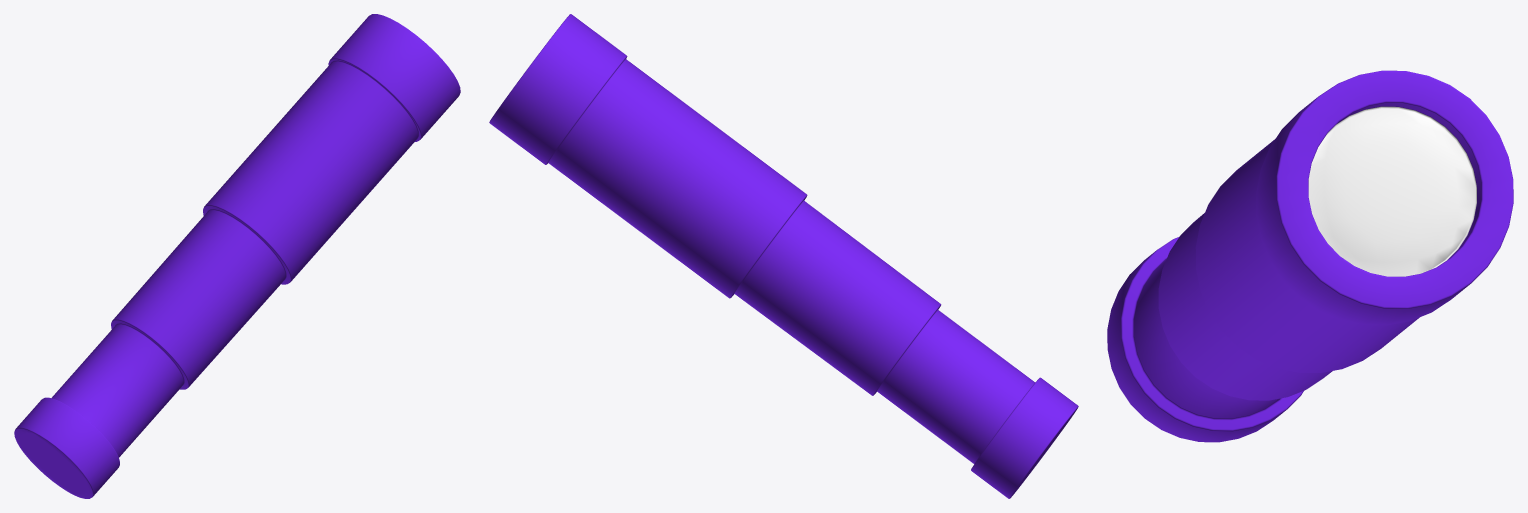
The model's file is telescope.glb.
3 views of the same model, side by side, from view 1: azimuth 30°, elevation 25°; view 2: azimuth 150°, elevation 25°; view 3: azimuth 270°, elevation 25° (orthographic). The views are drawn at different scales.
Visible parts, largest first — view 1: Circle; view 2: Circle; view 3: Circle.
Part boxes in pixels (x1,y1,x2,y2): Circle: (14,14,460,498); Circle: (489,14,1078,498); Circle: (1107,70,1513,442).
Bounding box in the file's own units: 4.08 × 3.04 × 1.56.
